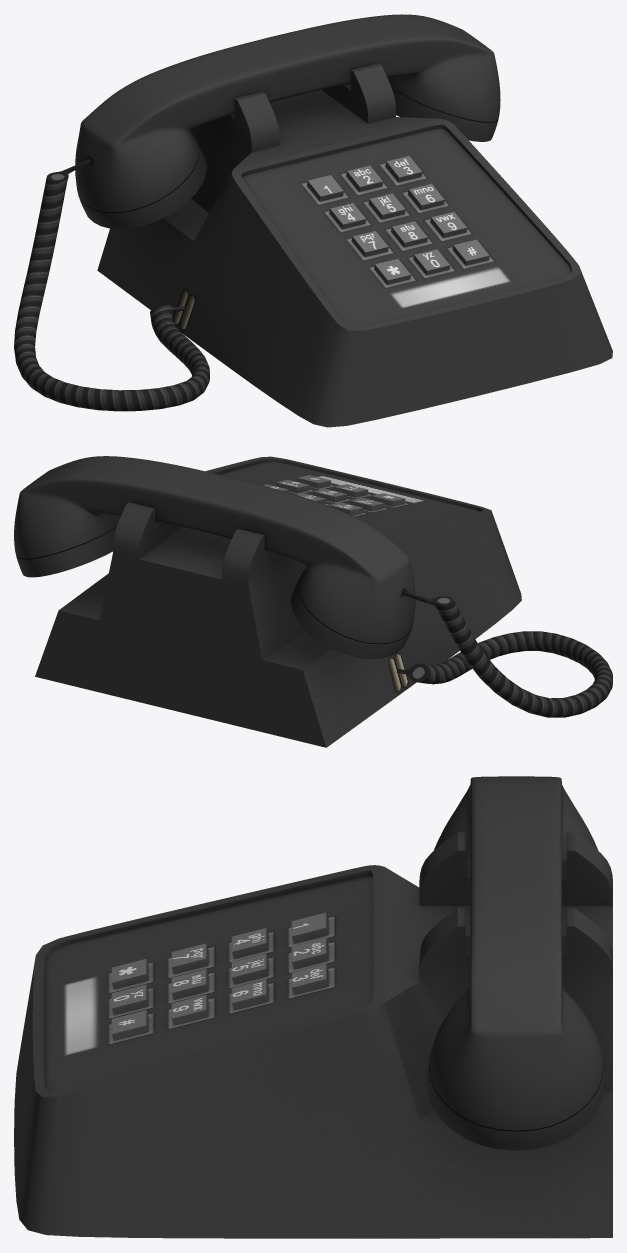
Rendered from old_telephone_split.glb.
3 renders of one model, top to bottom at view 1: azimuth 30°, elevation 25°; view 2: azimuth 150°, elevation 25°; view 3: azimuth 270°, elevation 25°, orthographic. The views are drawn at different scales.
Parts seen in each view (by area): view 1: Body, Handset; view 2: Body, Handset; view 3: Body, Handset.
Boxes of the visible parts, left/top/right/bottom form: Body: left=14, top=65, right=612, bottom=427; Handset: left=75, top=14, right=500, bottom=229; Body: left=35, top=456, right=612, bottom=747; Handset: left=14, top=456, right=415, bottom=659; Body: left=14, top=832, right=612, bottom=1238; Handset: left=427, top=776, right=606, bottom=1150.
Size of the model in its own units: 0.3453 by 0.1306 by 0.2498.
Materials: 1 (1 with a texture image).
